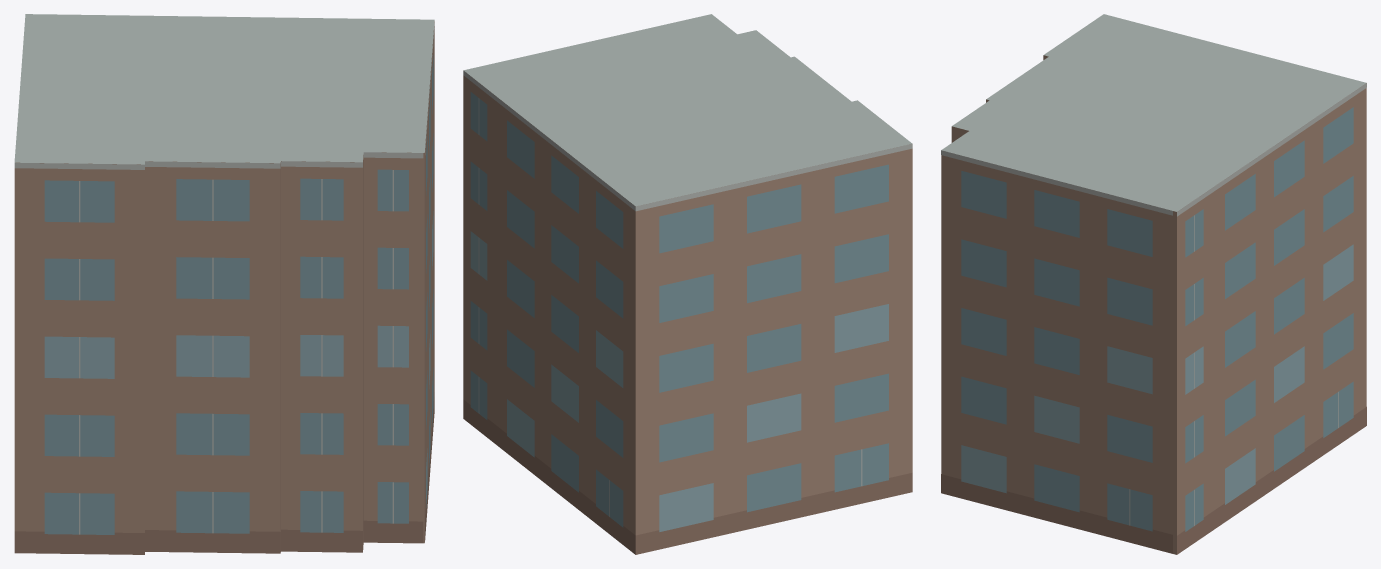
The model's file is survey-upis-32609092.glb.
The picture shows the model from 3 angles, left to right: view 1: azimuth 30°, elevation 25°; view 2: azimuth 150°, elevation 25°; view 3: azimuth 270°, elevation 25°; orthographic projection. The views are drawn at different scales.
Visible parts, largest first — view 1: survey-upis-32609092.tmp; view 2: survey-upis-32609092.tmp; view 3: survey-upis-32609092.tmp.
Boxes of the visible parts, x1,y1,x2,y2 form: survey-upis-32609092.tmp: [14, 14, 434, 554]; survey-upis-32609092.tmp: [463, 14, 912, 554]; survey-upis-32609092.tmp: [941, 14, 1366, 554].
Size of the model in its own units: 21.42 by 17.3 by 19.46.
